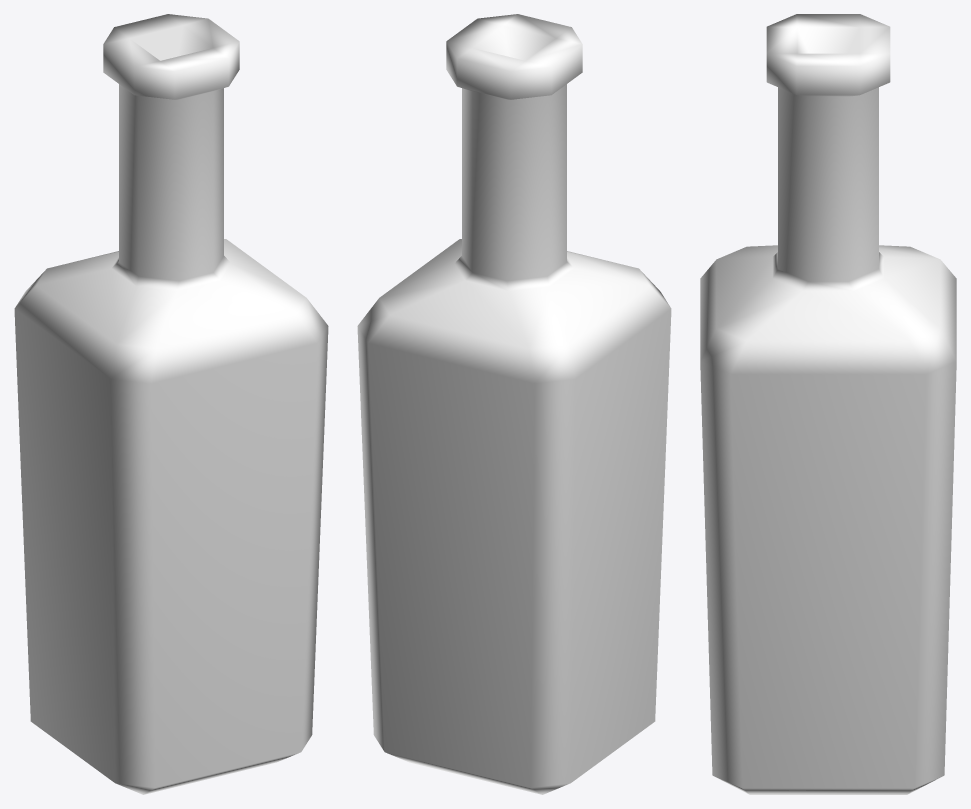
The model's file is CharSkyKid_Prop_NatureSculptureB.glb.
3 renders of one model, left to right at view 1: azimuth 30°, elevation 25°; view 2: azimuth 150°, elevation 25°; view 3: azimuth 270°, elevation 25°, orthographic.
Visible parts, largest first — view 1: CharSkyKid_Prop_NatureSculptureB; view 2: CharSkyKid_Prop_NatureSculptureB; view 3: CharSkyKid_Prop_NatureSculptureB.
Boxes of the visible parts, left/top/right/bottom form: CharSkyKid_Prop_NatureSculptureB: left=14, top=14, right=328, bottom=794; CharSkyKid_Prop_NatureSculptureB: left=357, top=14, right=671, bottom=794; CharSkyKid_Prop_NatureSculptureB: left=700, top=14, right=956, bottom=794.
Size of the model in its own units: 0.2288 by 0.7103 by 0.2288.
1 material, 1 textured.
